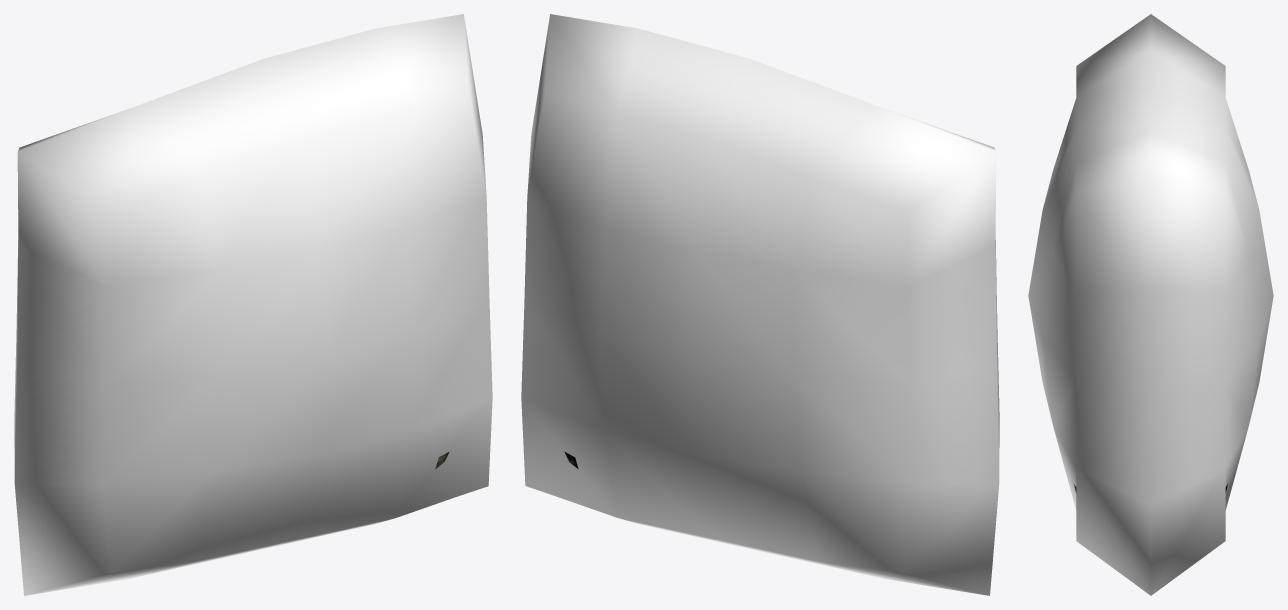
Rendered from SM_onigir_02.fbx.
The picture shows the model from 3 angles, left to right: view 1: azimuth 30°, elevation 25°; view 2: azimuth 150°, elevation 25°; view 3: azimuth 270°, elevation 25°; orthographic projection. The views are drawn at different scales.
Parts seen in each view (by area): view 1: Plane014; view 2: Plane014; view 3: Plane014.
Boxes of the visible parts, box(x1,y1,x2,y2) form: Plane014: box(14, 14, 492, 595); Plane014: box(521, 14, 999, 595); Plane014: box(1028, 14, 1273, 595).
Size of the model in its own units: 14.05 by 13.94 by 7.3.
